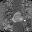people: (12, 12, 23, 23)
